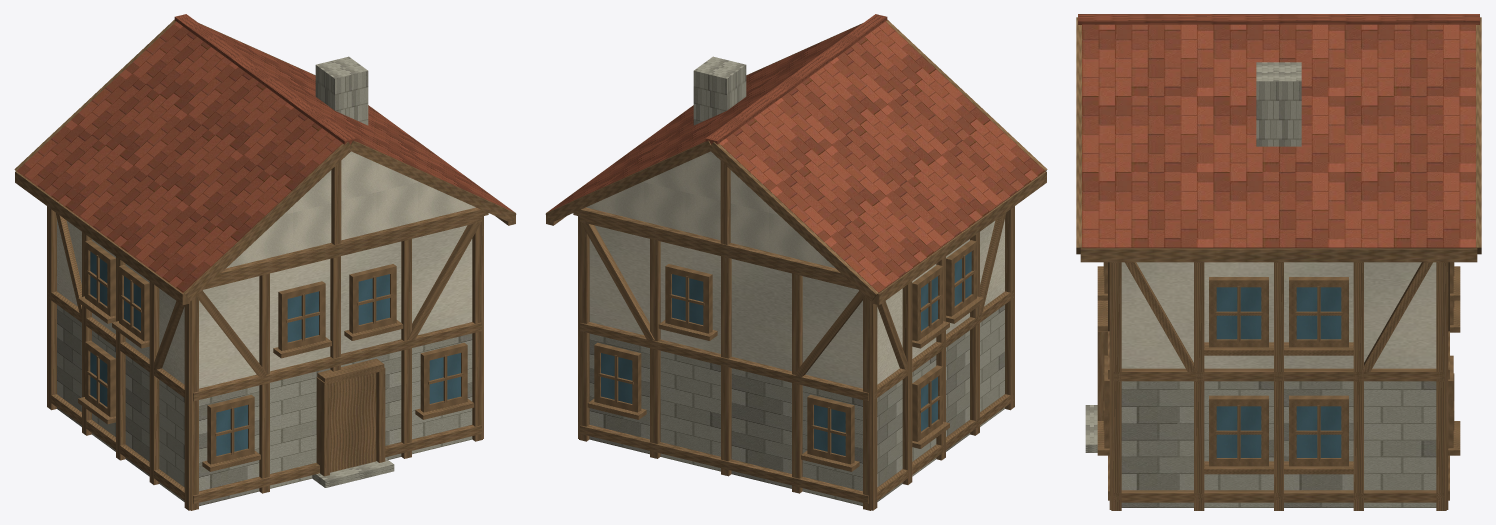
3 renders of one model, left to right at view 1: azimuth 30°, elevation 25°; view 2: azimuth 150°, elevation 25°; view 3: azimuth 270°, elevation 25°, orthographic. The views are drawn at different scales.
Visible parts, largest first — view 1: house-wood, house-roof, house-plaster, house-stone, house-glass; view 2: house-wood, house-roof, house-plaster, house-stone, house-glass; view 3: house-roof, house-wood, house-stone, house-plaster, house-glass.
Part boxes in pixels (x1,y1,x2,y2): house-wood: [14, 19, 516, 510]; house-roof: [17, 14, 513, 292]; house-plaster: [57, 151, 475, 388]; house-stone: [57, 56, 472, 506]; house-glass: [90, 251, 460, 455]; house-wood: [545, 19, 1047, 510]; house-roof: [548, 14, 1044, 292]; house-plaster: [586, 151, 1004, 388]; house-stone: [589, 56, 1004, 506]; house-glass: [601, 251, 971, 455]; house-roof: [1078, 14, 1479, 248]; house-wood: [1076, 17, 1481, 510]; house-stone: [1085, 62, 1436, 507]; house-plaster: [1121, 262, 1436, 368]; house-glass: [1216, 287, 1341, 457].
Bounding box in the file's own units: 7.98 × 7.9 × 7.1.
5 materials, 5 textured.
